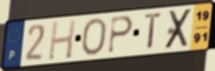2: (24, 23, 47, 63)
H: (47, 19, 78, 62)
O: (80, 17, 109, 58)
P: (106, 15, 135, 55)
T: (143, 11, 164, 52)
X: (162, 7, 194, 51)
